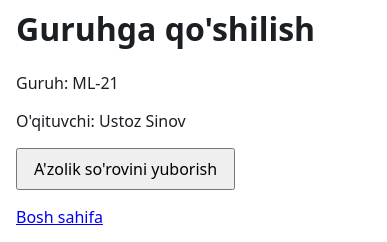
Test: /join/<token> (SEC-03) › talaba so'rov yuboradi (CSRF bilan)
Click the button "A'zolik so'rovini yuborish" at point(126, 169), box [16, 148, 235, 190]
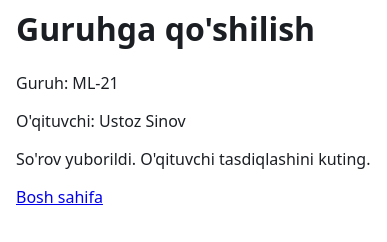
Expected: the message reads "So'rov yuborildi. O'qituvchi tasdiqlashini kuting.", [16, 148, 370, 170]
